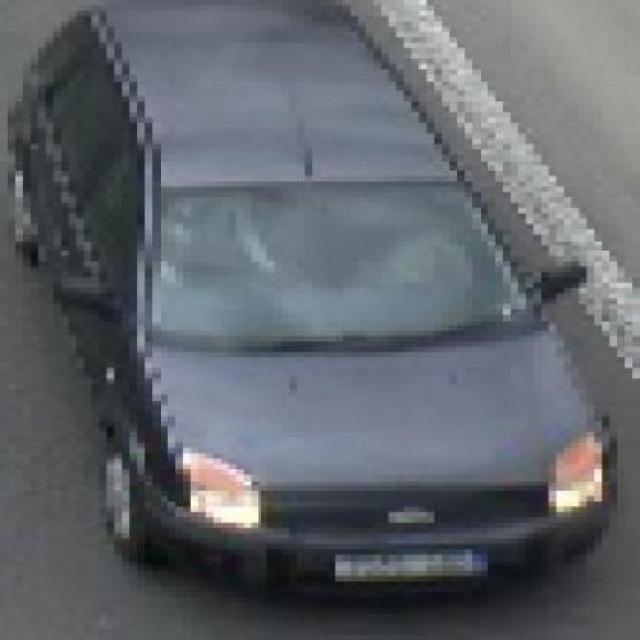vehicle: (0, 0, 625, 635)
